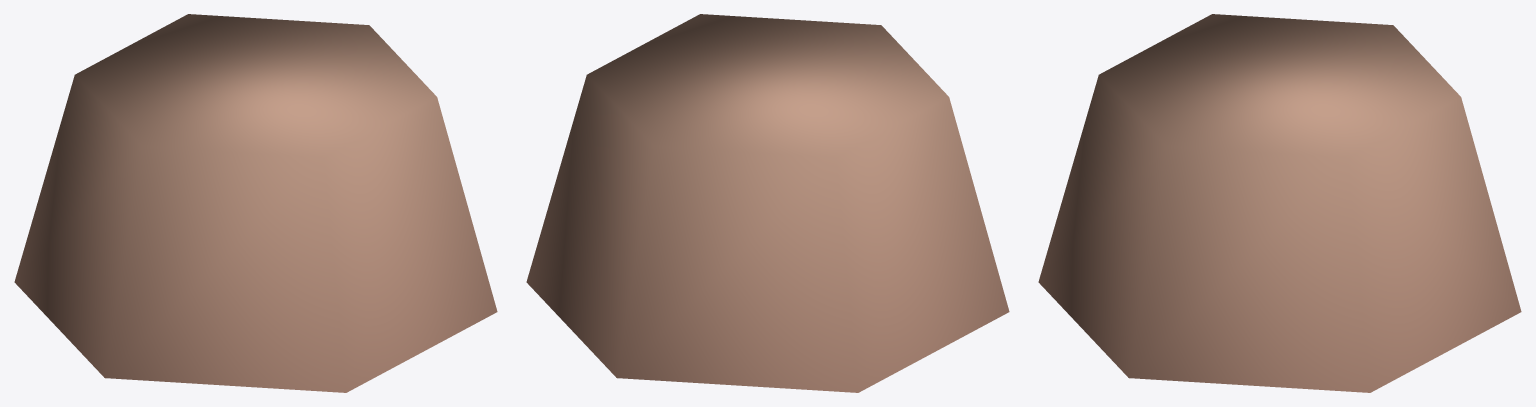
Rendered from (%no-merge) 14.glb.
The picture shows the model from 3 angles, left to right: view 1: azimuth 30°, elevation 25°; view 2: azimuth 150°, elevation 25°; view 3: azimuth 270°, elevation 25°; orthographic projection.
Parts seen in each view (by area): view 1: (%no-merge) 14; view 2: (%no-merge) 14; view 3: (%no-merge) 14.
Boxes of the visible parts, x1,y1,x2,y2 form: (%no-merge) 14: (14,14,497,392); (%no-merge) 14: (526,14,1009,392); (%no-merge) 14: (1038,14,1521,392).
Bounding box in the file's own units: 0.0389 × 0.02 × 0.0415.
